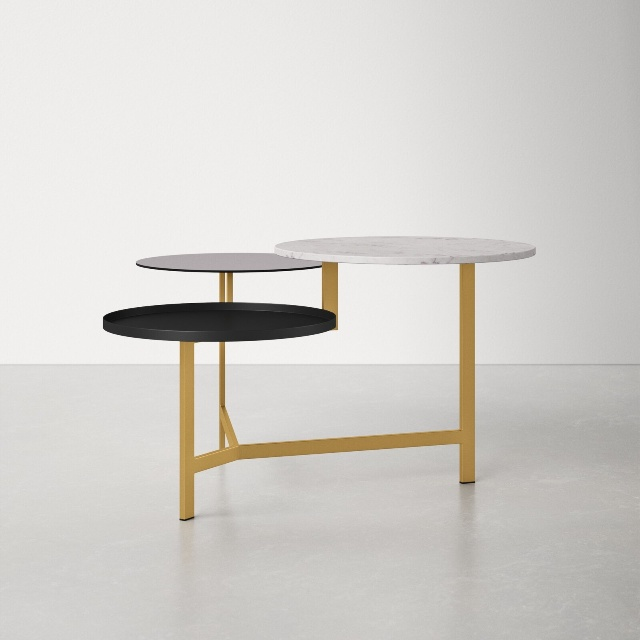obstacle: (103, 236, 535, 520)
